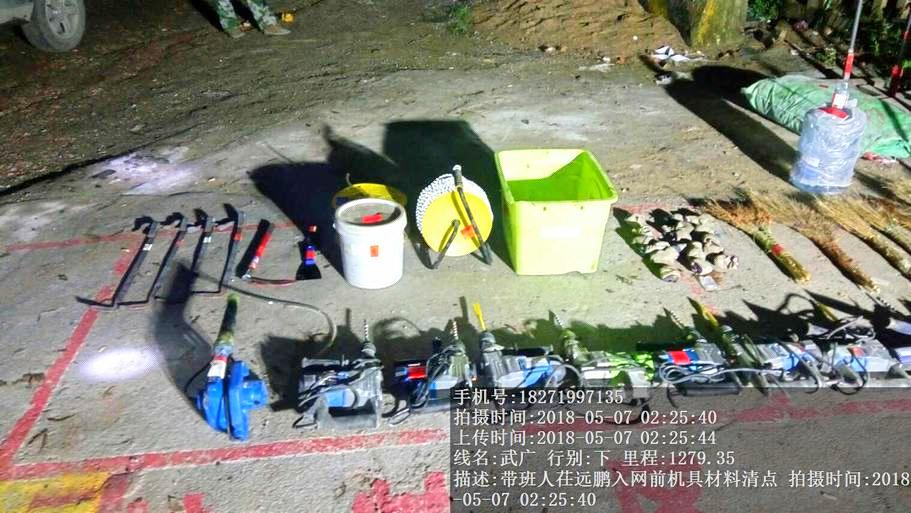DX: (413, 162, 497, 267)
DZ: (296, 315, 392, 423)
GFJ: (195, 296, 277, 440), (790, 290, 890, 384), (466, 301, 564, 391), (714, 304, 811, 384), (552, 316, 656, 389), (390, 319, 473, 407), (645, 307, 734, 386)
SB: (775, 186, 882, 293), (700, 196, 810, 280)
T: (490, 147, 618, 276)
